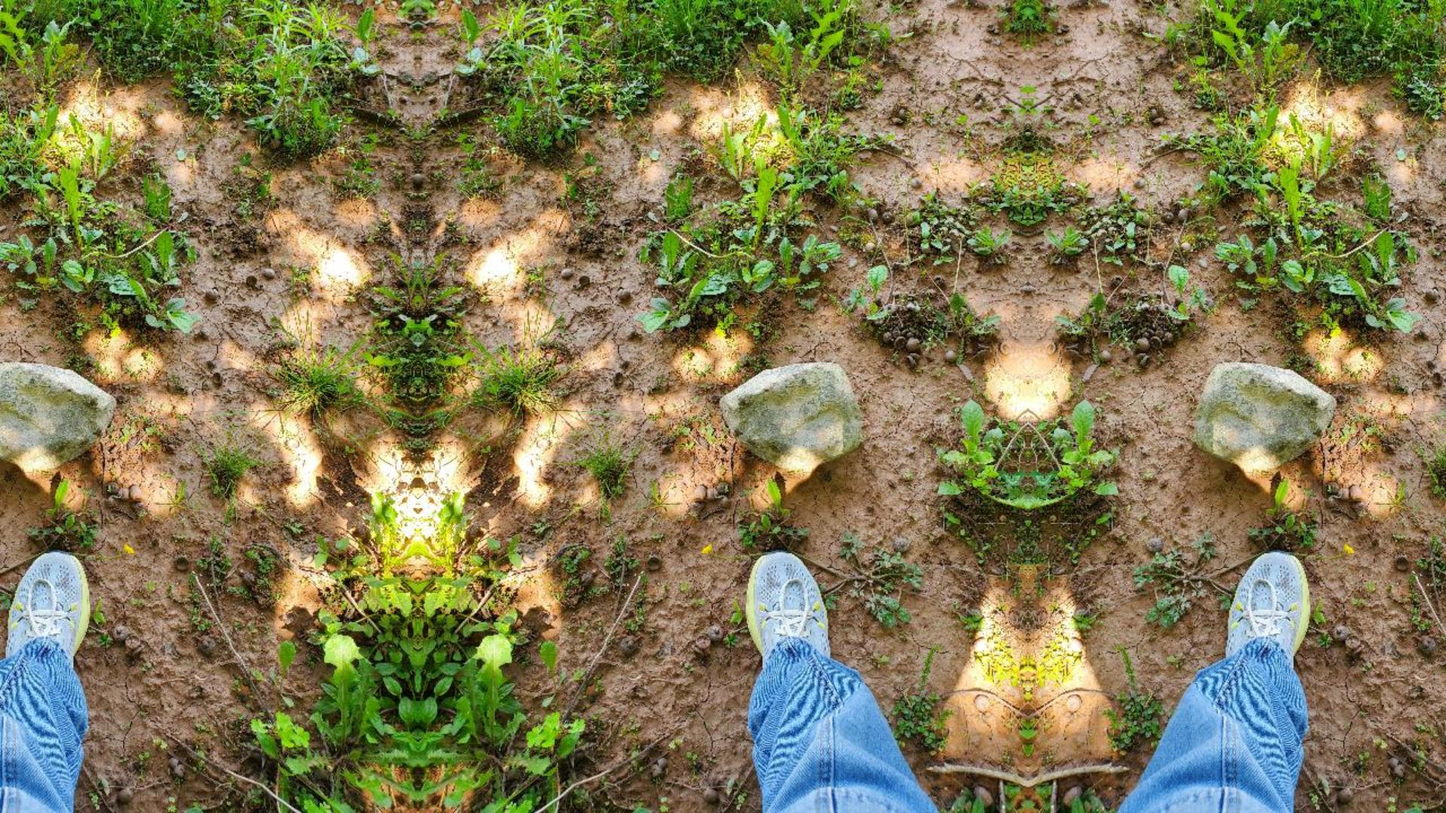rock: (720, 362, 861, 475), (1193, 362, 1334, 475), (0, 362, 114, 473)
